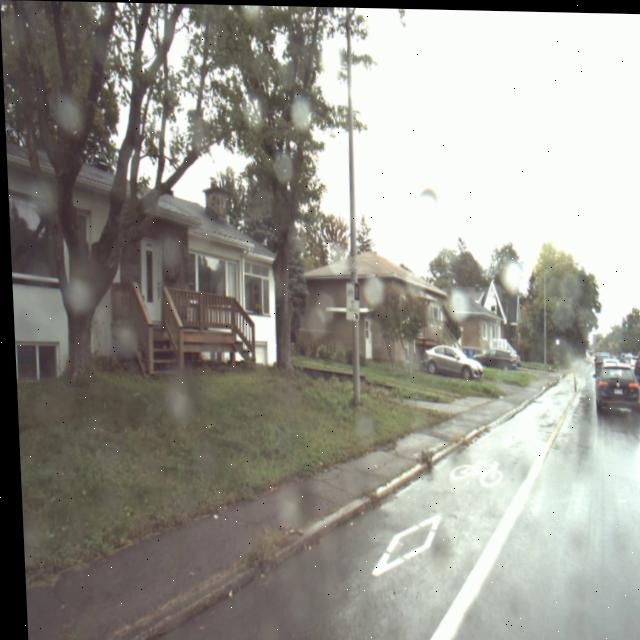car: (590, 359, 639, 417), (420, 344, 480, 378), (470, 348, 510, 368), (631, 349, 640, 383)
